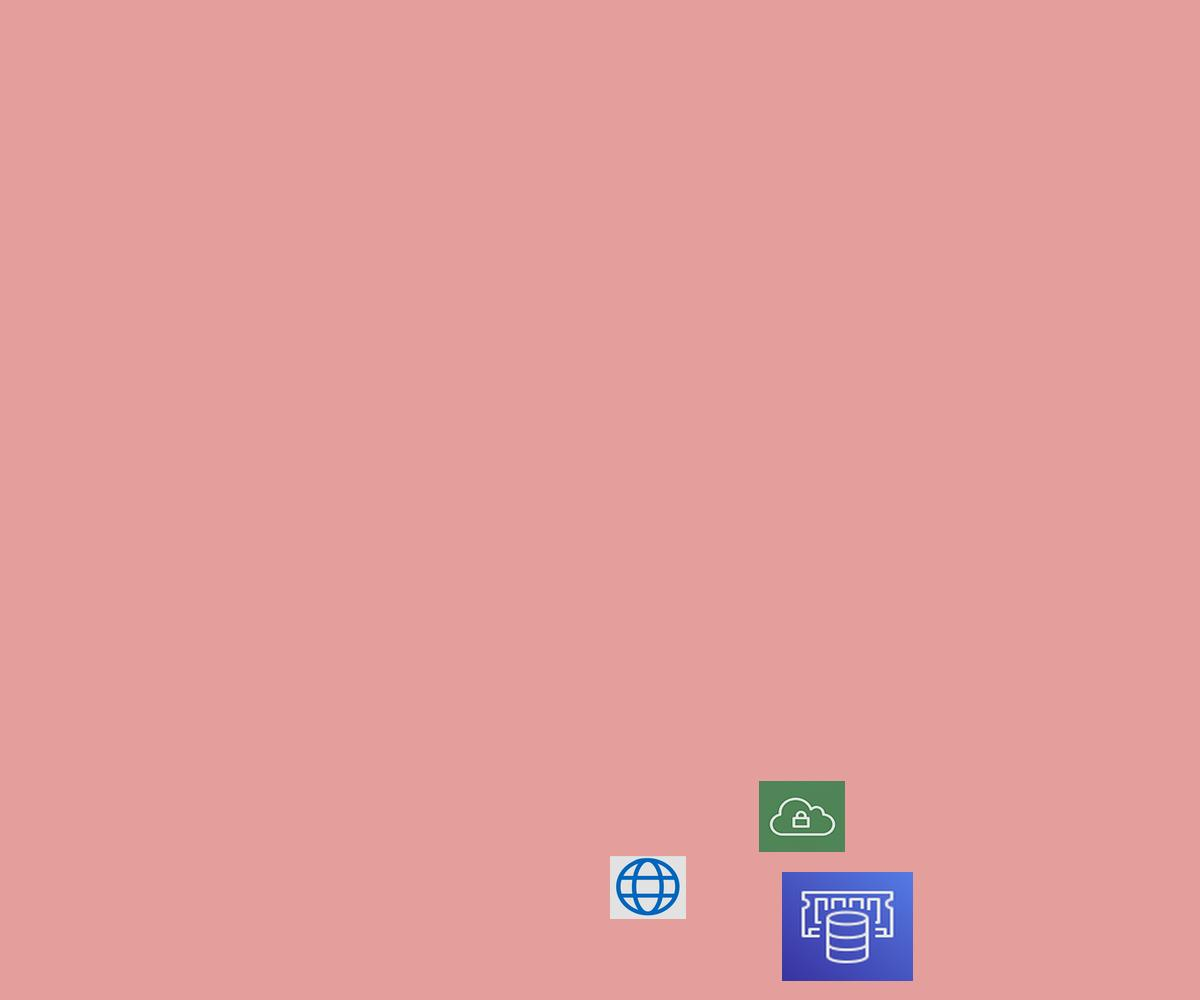AWS-ElastiCache: (782, 872, 913, 981)
AWS-Private_vpc: (759, 781, 845, 852)
Azure_http: (610, 856, 686, 919)
